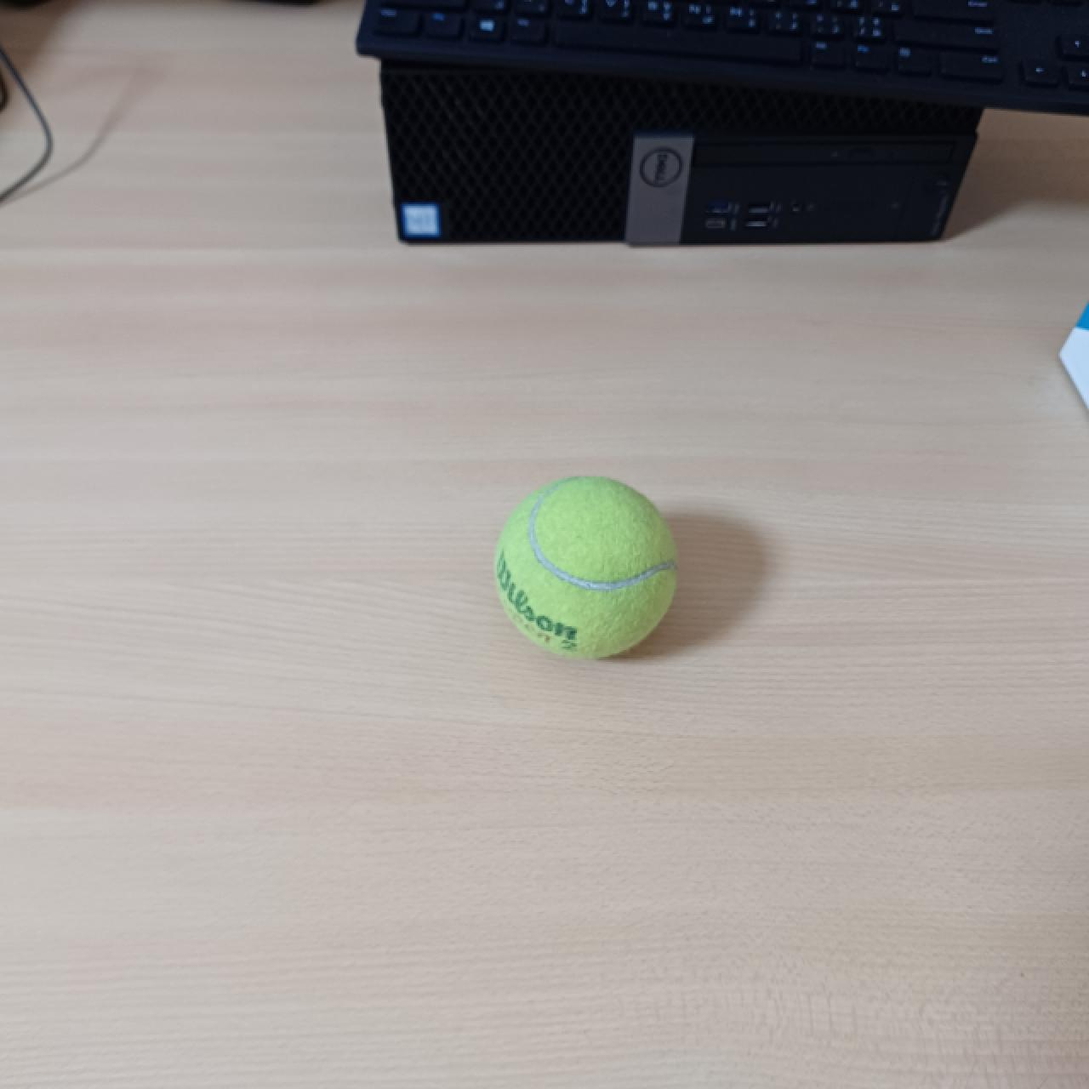tennis-ball: (490, 471, 679, 663)
